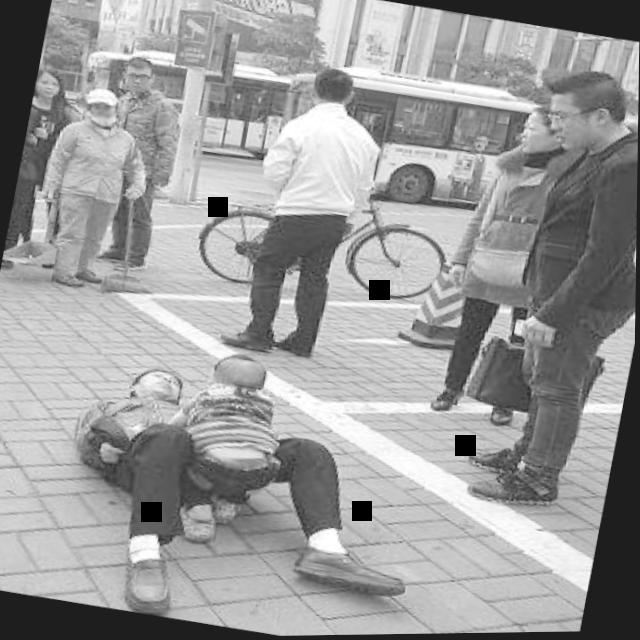Fall-Detected: (40, 319, 488, 639)
